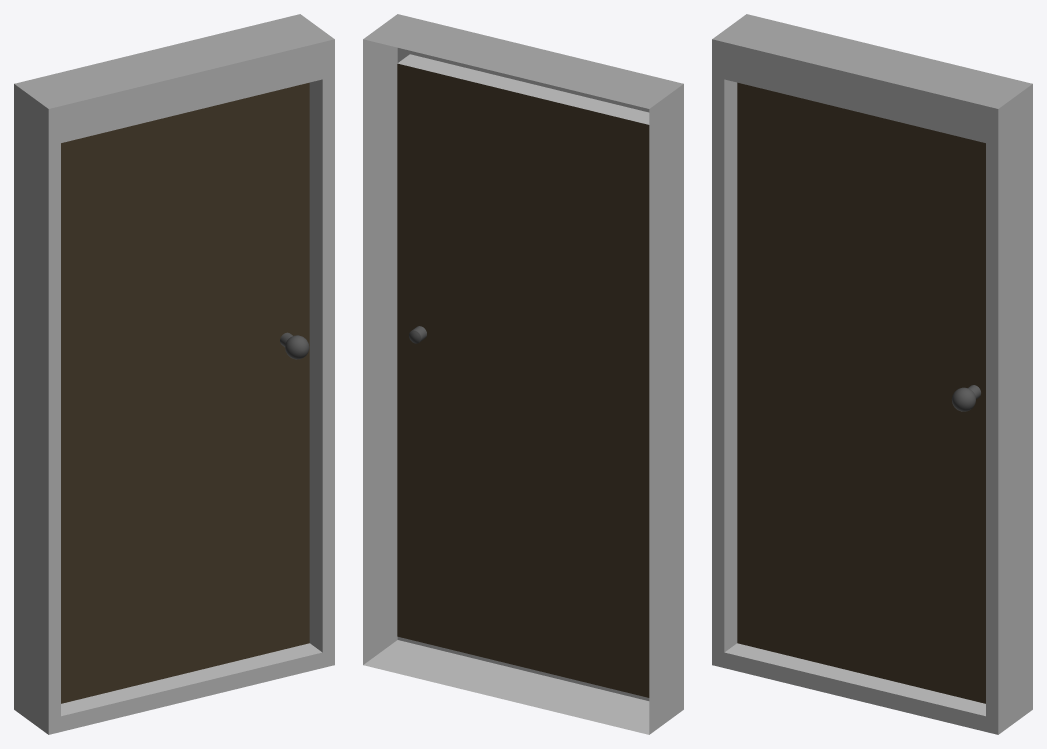
Rendered from Door.fbx.
The picture shows the model from 3 angles, left to right: view 1: azimuth 30°, elevation 25°; view 2: azimuth 150°, elevation 25°; view 3: azimuth 330°, elevation 25°; orthographic projection.
Parts seen in each view (by area): view 1: Door1; view 2: Door1; view 3: Door1.
Part boxes in pixels (<box>): Door1: <box>14,14,334,734</box>; Door1: <box>363,14,683,734</box>; Door1: <box>712,14,1032,734</box>.
Size of the model in its own units: 0.3259 by 0.6812 by 0.0769.
